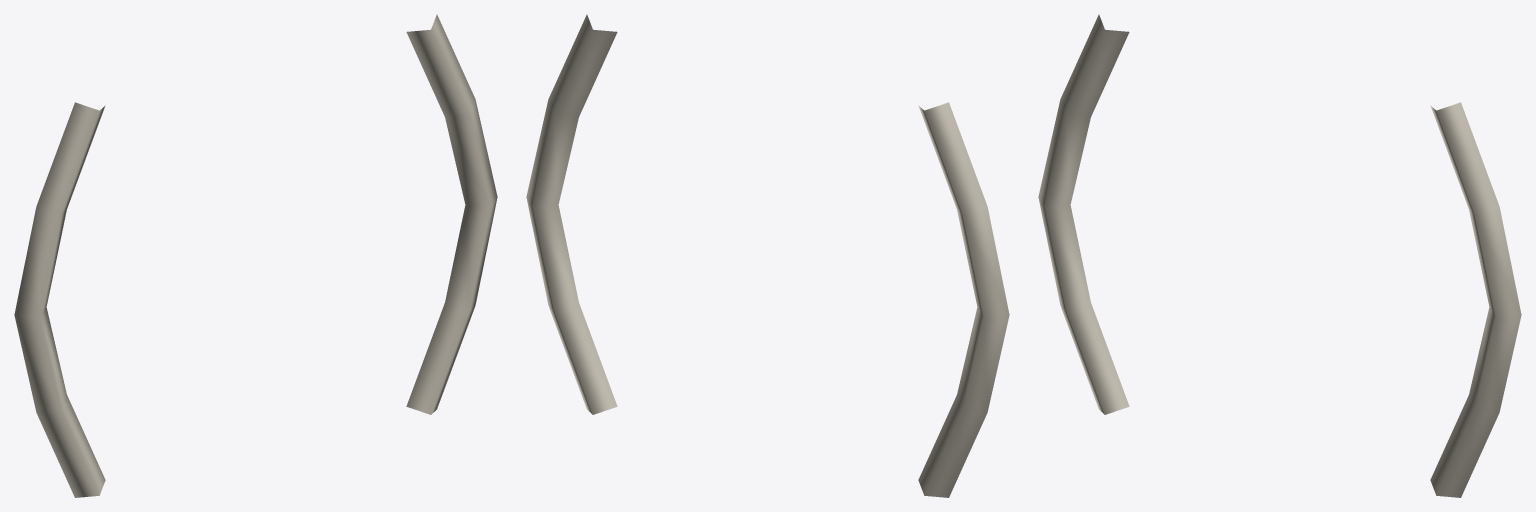
File: brackets.glb
The picture shows the model from 3 angles, left to right: view 1: azimuth 30°, elevation 25°; view 2: azimuth 150°, elevation 25°; view 3: azimuth 330°, elevation 25°; orthographic projection.
Parts seen in each view (by area): view 1: brackets; view 2: brackets; view 3: brackets.
Boxes of the visible parts, left/top/right/bottom form: brackets: left=14, top=14, right=497, bottom=497; brackets: left=526, top=14, right=1009, bottom=497; brackets: left=1038, top=14, right=1521, bottom=497.
Size of the model in its own units: 0.4725 by 0.3697 by 0.0315.
